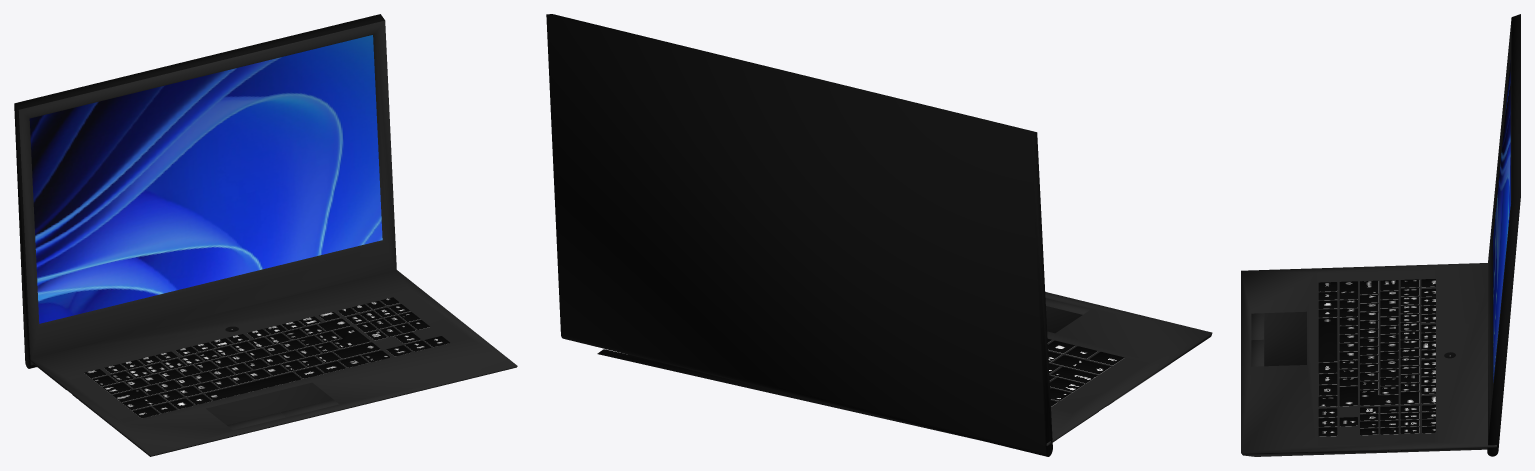
File: laptop.glb
3 views of the same model, side by side, from view 1: azimuth 30°, elevation 25°; view 2: azimuth 150°, elevation 25°; view 3: azimuth 270°, elevation 25° (orthographic). The views are drawn at different scales.
Visible parts, largest first — view 1: Screen, Base, Keyboard; view 2: Screen, Base, Keyboard, Feet; view 3: Base, Keyboard, Screen.
Part boxes in pixels (left/top/right/bottom): Screen: left=14, top=14, right=396, bottom=368; Base: left=28, top=270, right=517, bottom=456; Keyboard: left=84, top=297, right=449, bottom=418; Screen: left=546, top=14, right=1052, bottom=456; Base: left=1045, top=292, right=1212, bottom=445; Keyboard: left=1047, top=339, right=1124, bottom=406; Feet: left=597, top=349, right=1002, bottom=445; Base: left=1241, top=263, right=1496, bottom=456; Keyboard: left=1318, top=279, right=1435, bottom=436; Screen: left=1487, top=14, right=1520, bottom=456.
Bounding box in the file's own units: 3.49 × 2.36 × 2.26.
10 materials, 2 textured.
